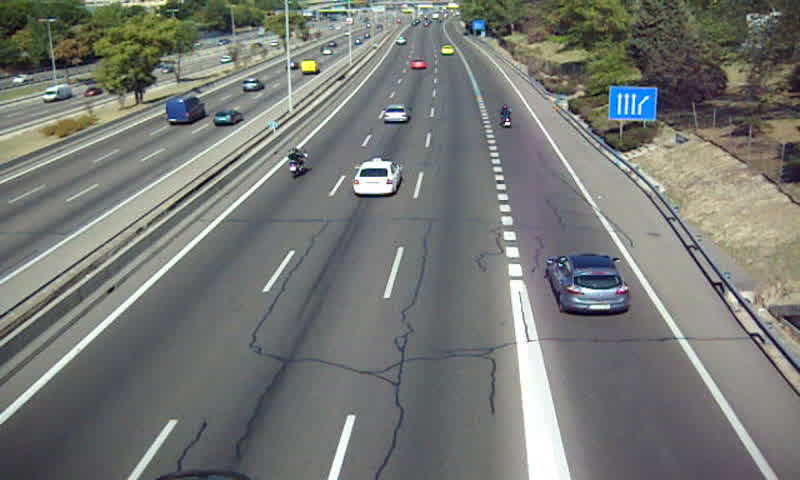car: (550, 253, 631, 314), (353, 160, 401, 196), (381, 104, 409, 124), (410, 57, 428, 71), (440, 45, 455, 56)
motorcycle: (286, 146, 307, 180), (499, 104, 516, 130)
